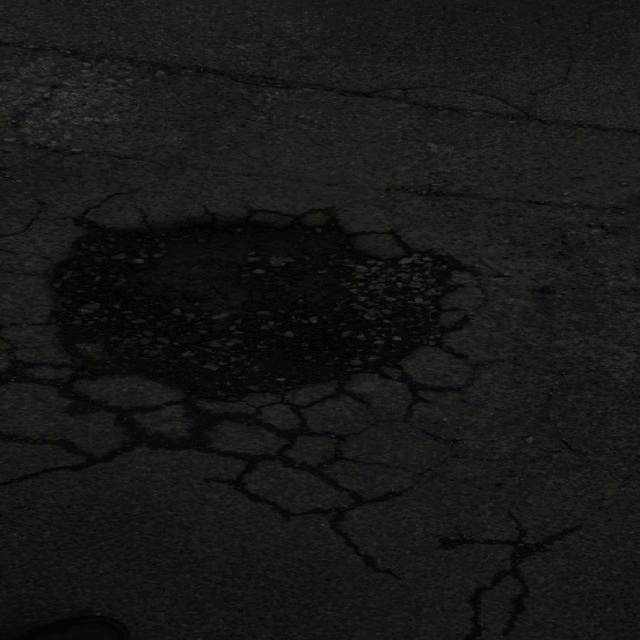Pothole: (32, 202, 476, 406)
